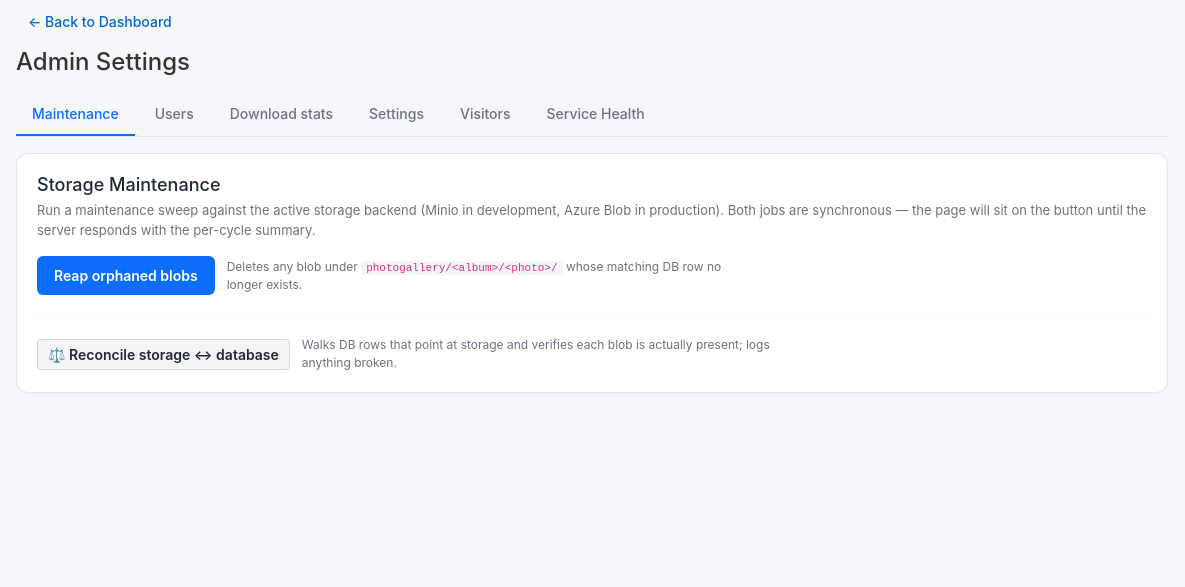
Test: AdminSettingsComponent › reap-orphans button enqueues a worker job and renders the summary on completion
This screenshot has width=1185, height=587.
Click the button with test id "admin-reap-orphans-button".
click(126, 276)  # box [37,256,215,295]
Wait 2100 ms
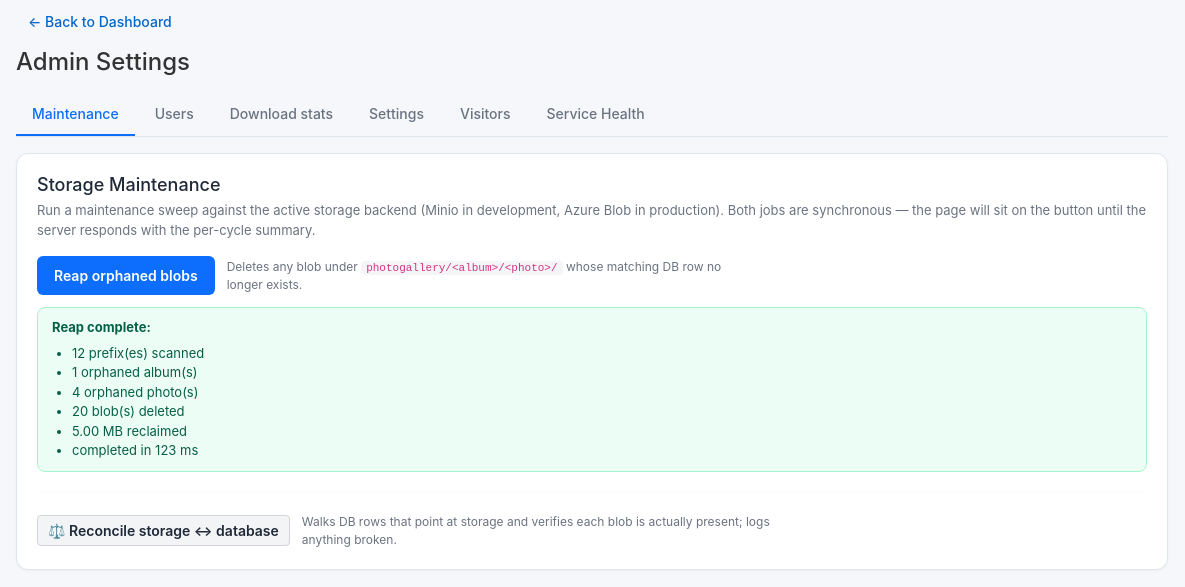
Expected: the element with test id "admin-reap-orphans-report" is shown, [37,307,1147,472]
Expected: the element with test id "admin-reap-orphans-report" shows "20", [72,403,185,419]
Expected: the element with test id "admin-reap-orphans-report" shows "5.00 MB", [72,423,187,439]
